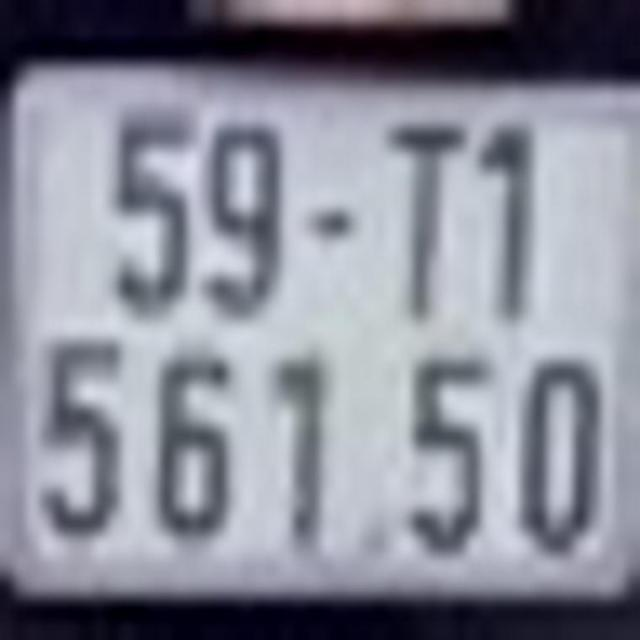0: (520, 350, 599, 548)
1: (476, 120, 542, 330), (271, 349, 324, 554)
5: (411, 346, 489, 553), (43, 332, 122, 535), (116, 110, 192, 320)
6: (157, 344, 234, 543)
9: (205, 121, 283, 322)
T: (382, 117, 462, 322)
